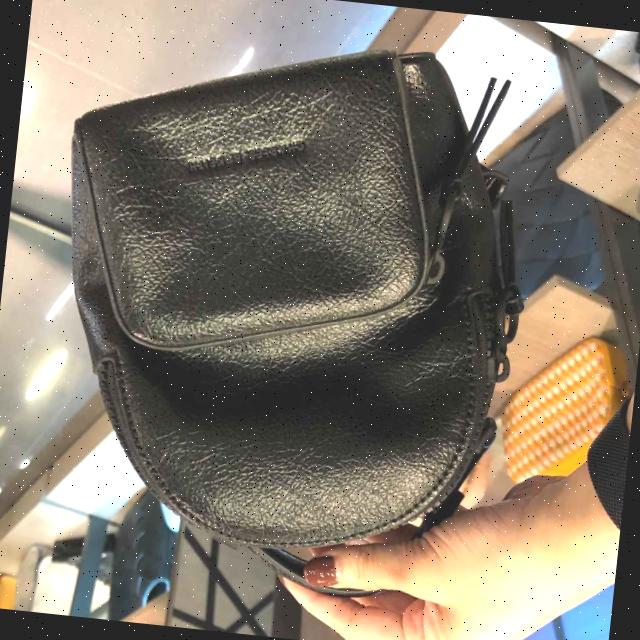Handbag: (29, 12, 546, 574)
